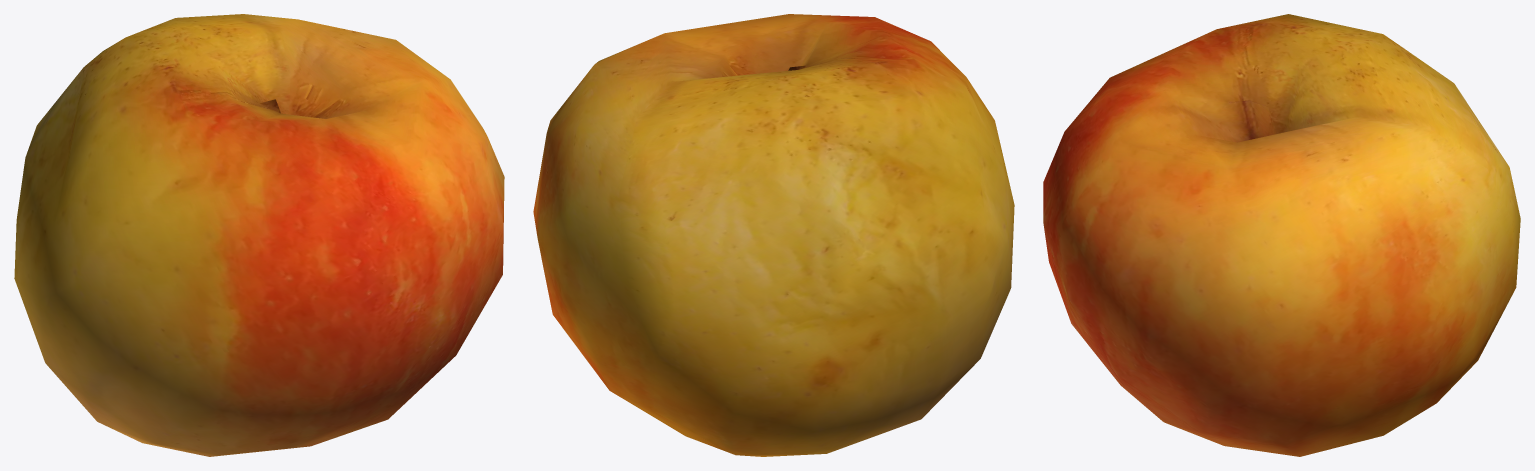
Rendered from persimmon-0.glb.
3 views of the same model, side by side, from view 1: azimuth 30°, elevation 25°; view 2: azimuth 150°, elevation 25°; view 3: azimuth 270°, elevation 25° (orthographic). The views are drawn at different scales.
Visible parts, largest first — view 1: Object_2; view 2: Object_2; view 3: Object_2.
Boxes of the visible parts, left/top/right/bottom form: Object_2: left=14, top=14, right=504, bottom=456; Object_2: left=533, top=14, right=1014, bottom=456; Object_2: left=1043, top=14, right=1520, bottom=456.
Size of the model in its own units: 0.6661 by 0.5297 by 0.6575.
1 material, 1 textured.
